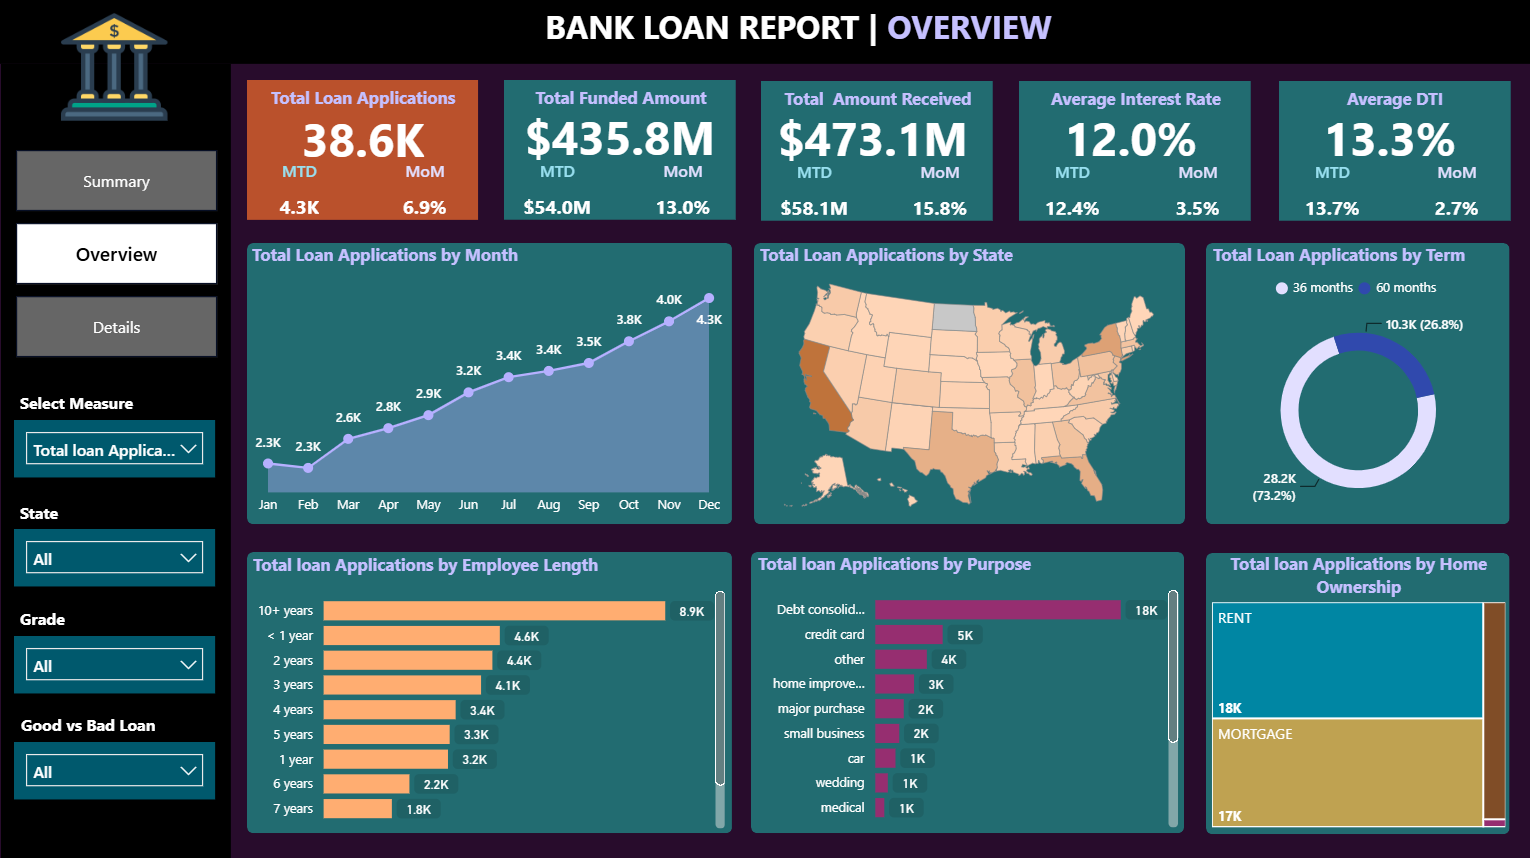

What the dashboard file says about the page in this screenshot:
{"tool":"powerbi","page":{"name":"Overview","canvas":[1280,720],"ordinal":1},"visuals":[{"type":"shape","box":[0.9,55,192.4,665],"z":0},{"type":"shape","box":[206.5,68.3,193.4,116.8],"z":0,"group":"g1"},{"type":"shape","box":[421,68.3,193.6,116.7],"z":0,"group":"g3"},{"type":"shape","box":[636.1,69.2,193.6,116.7],"z":0,"group":"g4"},{"type":"shape","box":[850.9,69.2,193.6,116.7],"z":0,"group":"g5"},{"type":"shape","box":[1067.6,69.2,193.6,116.7],"z":0,"group":"g6"},{"type":"cardVisual","fields":{"Data":["financial_loan.Total Funded Amount"]},"box":[393.3,74.6,249.4,72.8],"z":1000,"group":"g3"},{"type":"cardVisual","fields":{"Data":["financial_loan.Total Amount Received"]},"box":[610.9,74.7,237.6,73.7],"z":1000,"group":"g4"},{"type":"cardVisual","fields":{"Data":["financial_loan.Avg Interest Rate"]},"box":[825.7,74.7,237.6,73.7],"z":1000,"group":"g5"},{"type":"cardVisual","fields":{"Data":["financial_loan.Avg DTI"]},"box":[1042,74.8,237.6,73.7],"z":1000,"group":"g6"},{"type":"cardVisual","fields":{"Data":["financial_loan.Total loan Applications"]},"box":[206.5,76.4,194.4,72.5],"z":1000,"group":"g1"},{"type":"shape","box":[1007.3,204.8,253.6,235],"z":1000},{"type":"shape","box":[0,0,1280,55.4],"z":1500},{"type":"textbox","box":[206.3,68.6,193.8,28.8],"z":2000,"group":"g1"},{"type":"textbox","box":[421.6,68.6,193.8,28.8],"z":2000,"group":"g3"},{"type":"textbox","box":[636.8,69.5,193.8,28.8],"z":2000,"group":"g4"},{"type":"textbox","box":[851.6,69.5,193.8,28.8],"z":2000,"group":"g5"},{"type":"textbox","box":[1068.2,69.5,193.8,28.8],"z":2000,"group":"g6"},{"type":"shape","box":[629.6,204.8,360,235],"z":2000},{"type":"cardVisual","title":"MTD","fields":{"Data":["financial_loan.MTD Loan Applicaitons"]},"box":[205.7,134.9,89.4,50],"z":3000,"group":"g1"},{"type":"cardVisual","title":"MTD","fields":{"Data":["financial_loan.MTD Funded Amount"]},"box":[421,134.9,89.4,50],"z":3000,"group":"g3"},{"type":"cardVisual","title":"MTD","fields":{"Data":["financial_loan.MTD Total Amount Received"]},"box":[636.1,135.8,89.4,50],"z":3000,"group":"g4"},{"type":"cardVisual","title":"MTD","fields":{"Data":["financial_loan.MTD Avg Interest Rate"]},"box":[850.9,135.8,89.4,50],"z":3000,"group":"g5"},{"type":"cardVisual","title":"MTD","fields":{"Data":["financial_loan.MTD Avg DTI"]},"box":[1067.6,135.8,89.4,50],"z":3000,"group":"g6"},{"type":"group","id":"g1","title":"Group 2","box":[205.7,68.3,195.5,116.7],"z":3001,"group":"g2"},{"type":"cardVisual","title":"MoM","fields":{"Data":["financial_loan.MoM Loan Application"]},"box":[310.7,135.5,88.8,50],"z":4000,"group":"g1"},{"type":"cardVisual","title":"MoM","fields":{"Data":["financial_loan.MoM Total Funded Amount"]},"box":[526,135.5,88.8,50],"z":4000,"group":"g3"},{"type":"cardVisual","title":"MoM","fields":{"Data":["financial_loan.MoM Total Amount Received"]},"box":[741.1,136.4,88.8,50],"z":4000,"group":"g4"},{"type":"cardVisual","title":"MoM","fields":{"Data":["financial_loan.MoM Avg Interest Rate"]},"box":[955.9,136.4,88.8,50],"z":4000,"group":"g5"},{"type":"cardVisual","title":"MoM","fields":{"Data":["financial_loan.MoM Avg DTI"]},"box":[1172.6,136.4,88.8,50],"z":4000,"group":"g6"},{"type":"shape","box":[206.6,204.8,405.2,235],"z":4000},{"type":"textbox","box":[442.6,0,448.4,71],"z":5000},{"type":"areaChart","title":"Total Loan Applications by Month","fields":{"Y":["financial_loan.Total loan Applications"],"Category":["Date Table.Month"]},"box":[205.7,204.8,405.2,235],"z":6000},{"type":"group","id":"g2","title":"Group 1","box":[205.7,68.3,195.7,116.5],"z":7000},{"type":"shapeMap","title":"Total Loan Applications by State","fields":{"Value":["financial_loan.Total loan Applications"],"Category":["financial_loan.address_state"]},"box":[629.6,204.8,359.1,235],"z":8000},{"type":"group","id":"g3","title":"Group 3","box":[393.3,68.3,249.4,117.4],"z":9000},{"type":"donutChart","title":"Total Loan Applications by Term","fields":{"Y":["financial_loan.Total loan Applications"],"Category":["financial_loan.term"]},"box":[1008.2,204.8,252.7,235],"z":10000},{"type":"group","id":"g4","title":"Group 3","box":[610.9,69.2,237.6,117.4],"z":11000},{"type":"group","id":"g5","title":"Group 3","box":[825.7,69.2,237.6,117.4],"z":12000},{"type":"group","id":"g6","title":"Group 3","box":[1042,69.2,237.6,117.2],"z":13000},{"type":"slicer","fields":{"Values":["financial_loan.Good vs Bad Loan"]},"box":[11.8,620.9,168.4,48.3],"z":13250,"group":"g7"},{"type":"textbox","box":[11.8,415.1,55.5,29.1],"z":14000},{"type":"textbox","box":[12.8,592,159.6,29.3],"z":14000,"group":"g7"},{"type":"slicer","fields":{"Values":["financial_loan.address_state"]},"box":[11.8,443.4,168.4,48.3],"z":15000},{"type":"textbox","box":[11.8,503.4,55.5,29.1],"z":16000},{"type":"slicer","fields":{"Values":["financial_loan.grade"]},"box":[11.8,532.6,168.4,48.3],"z":17000},{"type":"slicer","fields":{"Values":["Select Measure.Select Measure"]},"box":[11.8,352.3,168.4,48.3],"z":18000},{"type":"shape","box":[206.6,462.9,405.2,235],"z":19000},{"type":"group","id":"g7","title":"Group 4","box":[11.8,592,168.4,77.2],"z":20000},{"type":"shape","box":[626.9,462.9,361.8,235],"z":21000},{"type":"textbox","box":[11.8,323.2,113.8,29.1],"z":22000},{"type":"barChart","fields":{"Y":["financial_loan.Total loan Applications"],"Category":["financial_loan.emp_length"]},"box":[206.6,463.7,404.3,235],"z":23000},{"type":"barChart","fields":{"Category":["financial_loan.purpose"],"Y":["financial_loan.Total loan Applications"]},"box":[627.8,462.9,360.9,235],"z":24000},{"type":"shape","box":[1007.3,463.7,253.6,235],"z":25000},{"type":"treemap","fields":{"Group":["financial_loan.home_ownership"],"Values":["financial_loan.Total loan Applications"]},"box":[1007.3,462.9,255.4,235],"z":26000},{"type":"group","id":"g8","title":"Group 5","box":[13.3,2.7,168.5,298.8],"z":26001},{"type":"pageNavigator","box":[13.3,126.8,168.5,174.7],"z":27000,"group":"g8"},{"type":"image","box":[46.1,2.7,99.3,110],"z":28000,"group":"g8"}]}

Visuals, with their boxes in screenshot pixels (x1, y1, x2, y2), scaled from the page's 1280x720 canvas onto the 1530x858 screenshot:
shape: BBox(1, 66, 231, 857)
shape: BBox(247, 81, 478, 221)
shape: BBox(503, 81, 735, 220)
shape: BBox(760, 82, 992, 222)
shape: BBox(1017, 82, 1249, 222)
shape: BBox(1276, 82, 1508, 222)
cardVisual - financial_loan.Total Funded Amount: BBox(470, 89, 768, 176)
cardVisual - financial_loan.Total Amount Received: BBox(730, 89, 1014, 177)
cardVisual - financial_loan.Avg Interest Rate: BBox(987, 89, 1271, 177)
cardVisual - financial_loan.Avg DTI: BBox(1246, 89, 1529, 177)
cardVisual - financial_loan.Total loan Applications: BBox(247, 91, 479, 177)
shape: BBox(1204, 244, 1507, 524)
shape: BBox(0, 0, 1529, 66)
textbox: BBox(247, 82, 478, 116)
textbox: BBox(504, 82, 736, 116)
textbox: BBox(761, 83, 993, 117)
textbox: BBox(1018, 83, 1250, 117)
textbox: BBox(1277, 83, 1508, 117)
shape: BBox(753, 244, 1183, 524)
"MTD" cardVisual: BBox(246, 161, 353, 220)
"MTD" cardVisual: BBox(503, 161, 610, 220)
"MTD" cardVisual: BBox(760, 162, 867, 221)
"MTD" cardVisual: BBox(1017, 162, 1124, 221)
"MTD" cardVisual: BBox(1276, 162, 1383, 221)
"Group 2" group: BBox(246, 81, 480, 220)
"MoM" cardVisual: BBox(371, 161, 478, 221)
"MoM" cardVisual: BBox(629, 161, 735, 221)
"MoM" cardVisual: BBox(886, 163, 992, 222)
"MoM" cardVisual: BBox(1143, 163, 1249, 222)
"MoM" cardVisual: BBox(1402, 163, 1508, 222)
shape: BBox(247, 244, 731, 524)
textbox: BBox(529, 0, 1065, 85)
"Total Loan Applications by Month" areaChart: BBox(246, 244, 730, 524)
"Group 1" group: BBox(246, 81, 480, 220)
"Total Loan Applications by State" shapeMap: BBox(753, 244, 1182, 524)
"Group 3" group: BBox(470, 81, 768, 221)
"Total Loan Applications by Term" donutChart: BBox(1205, 244, 1507, 524)
"Group 3" group: BBox(730, 82, 1014, 222)
"Group 3" group: BBox(987, 82, 1271, 222)
"Group 3" group: BBox(1246, 82, 1529, 222)
slicer - financial_loan.Good vs Bad Loan: BBox(14, 740, 215, 797)
textbox: BBox(14, 495, 80, 529)
textbox: BBox(15, 705, 206, 740)
slicer - financial_loan.address_state: BBox(14, 528, 215, 586)
textbox: BBox(14, 600, 80, 635)
slicer - financial_loan.grade: BBox(14, 635, 215, 692)
slicer - Select Measure.Select Measure: BBox(14, 420, 215, 477)
shape: BBox(247, 552, 731, 832)
"Group 4" group: BBox(14, 705, 215, 797)
shape: BBox(749, 552, 1182, 832)
textbox: BBox(14, 385, 150, 420)
barChart - financial_loan.Total loan Applications x financial_loan.emp_length: BBox(247, 553, 730, 833)
barChart - financial_loan.purpose x financial_loan.Total loan Applications: BBox(750, 552, 1182, 832)
shape: BBox(1204, 553, 1507, 833)
treemap - financial_loan.home_ownership x financial_loan.Total loan Applications: BBox(1204, 552, 1509, 832)
"Group 5" group: BBox(16, 3, 217, 359)
pageNavigator: BBox(16, 151, 217, 359)
image: BBox(55, 3, 174, 134)
